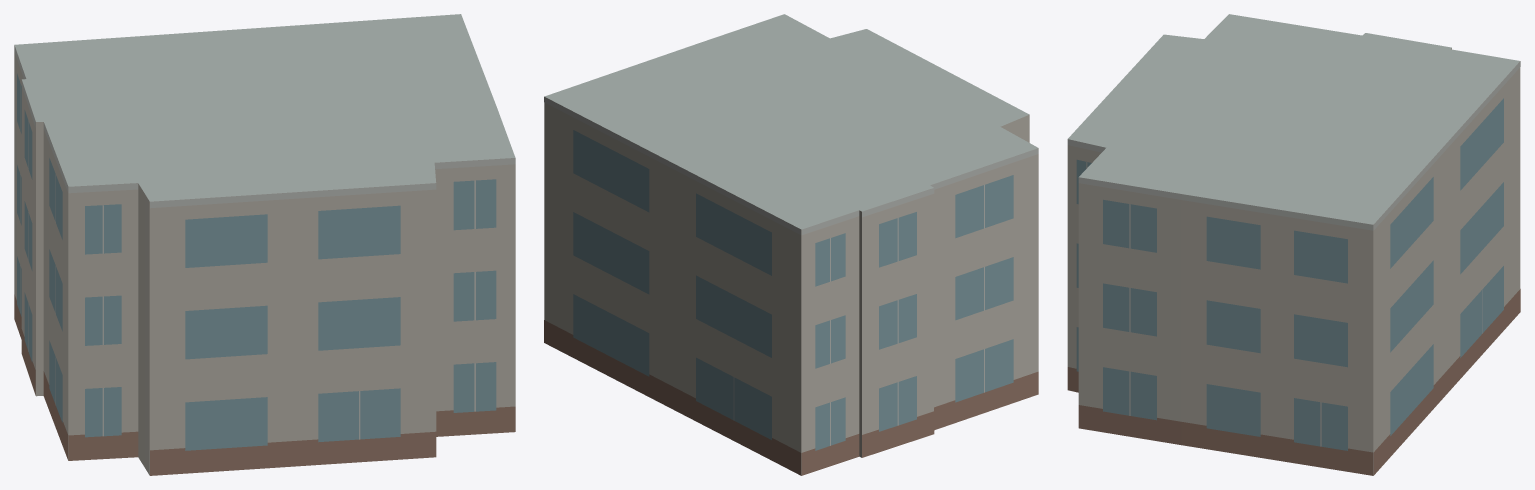
The model's file is survey-upis-32826331.glb.
The picture shows the model from 3 angles, left to right: view 1: azimuth 30°, elevation 25°; view 2: azimuth 150°, elevation 25°; view 3: azimuth 270°, elevation 25°; orthographic projection. The views are drawn at different scales.
Parts seen in each view (by area): view 1: survey-upis-32826331.tmp; view 2: survey-upis-32826331.tmp; view 3: survey-upis-32826331.tmp.
Part boxes in pixels (x1,y1,x2,y2): survey-upis-32826331.tmp: [14, 14, 515, 475]; survey-upis-32826331.tmp: [544, 14, 1038, 475]; survey-upis-32826331.tmp: [1067, 14, 1520, 475].
Bounding box in the file's own units: 18.55 × 10.3 × 16.84.
